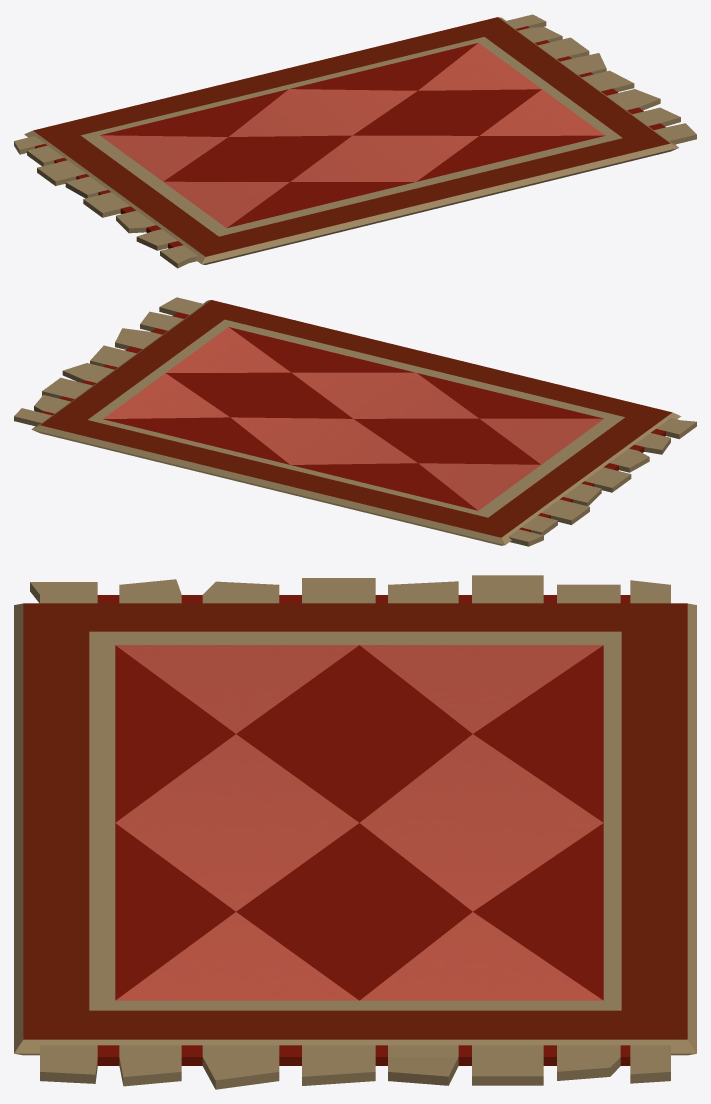
Rendered from Carpet_1A.fbx.
3 renders of one model, top to bottom at view 1: azimuth 30°, elevation 25°; view 2: azimuth 150°, elevation 25°; view 3: azimuth 270°, elevation 25°, orthographic. The views are drawn at different scales.
Parts seen in each view (by area): view 1: pCube786; view 2: pCube786; view 3: pCube786.
Part boxes in pixels (box(x1,y1,x2,y2)): pCube786: box(14, 14, 696, 268); pCube786: box(14, 297, 696, 546); pCube786: box(14, 575, 696, 1089).
Bounding box in the file's own units: 174 × 2.58 × 99.23.
